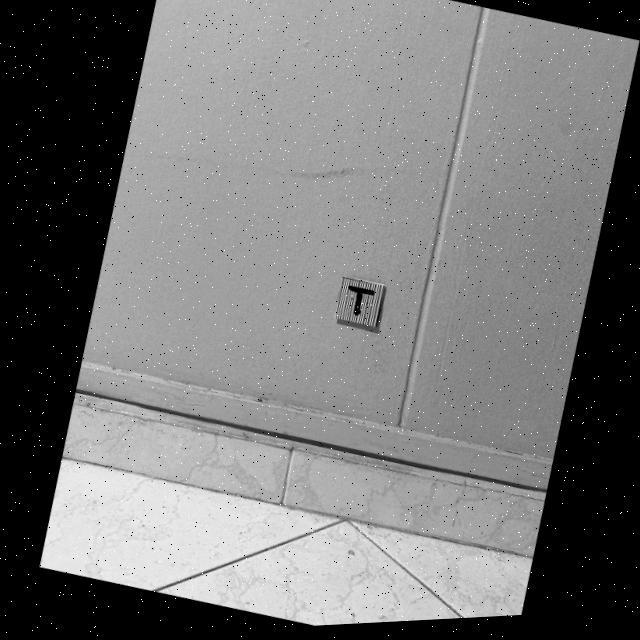T: (344, 289, 370, 320)
